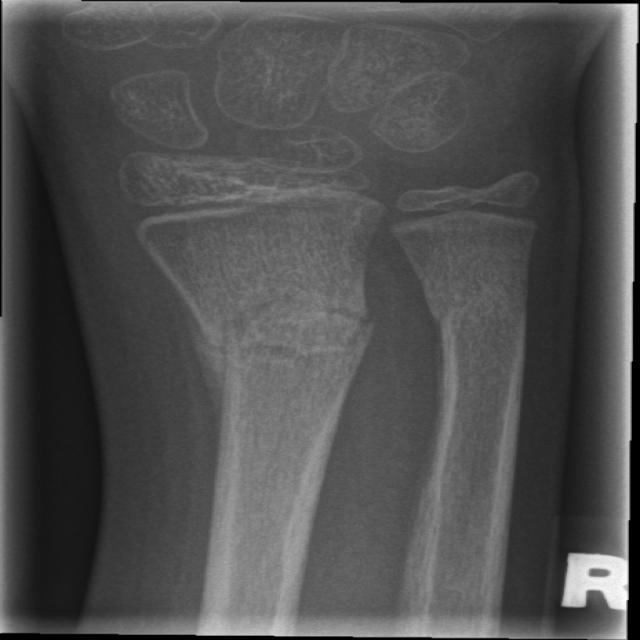radius fracture: (146, 273, 395, 489)
ulna fracture: (377, 279, 576, 473)
